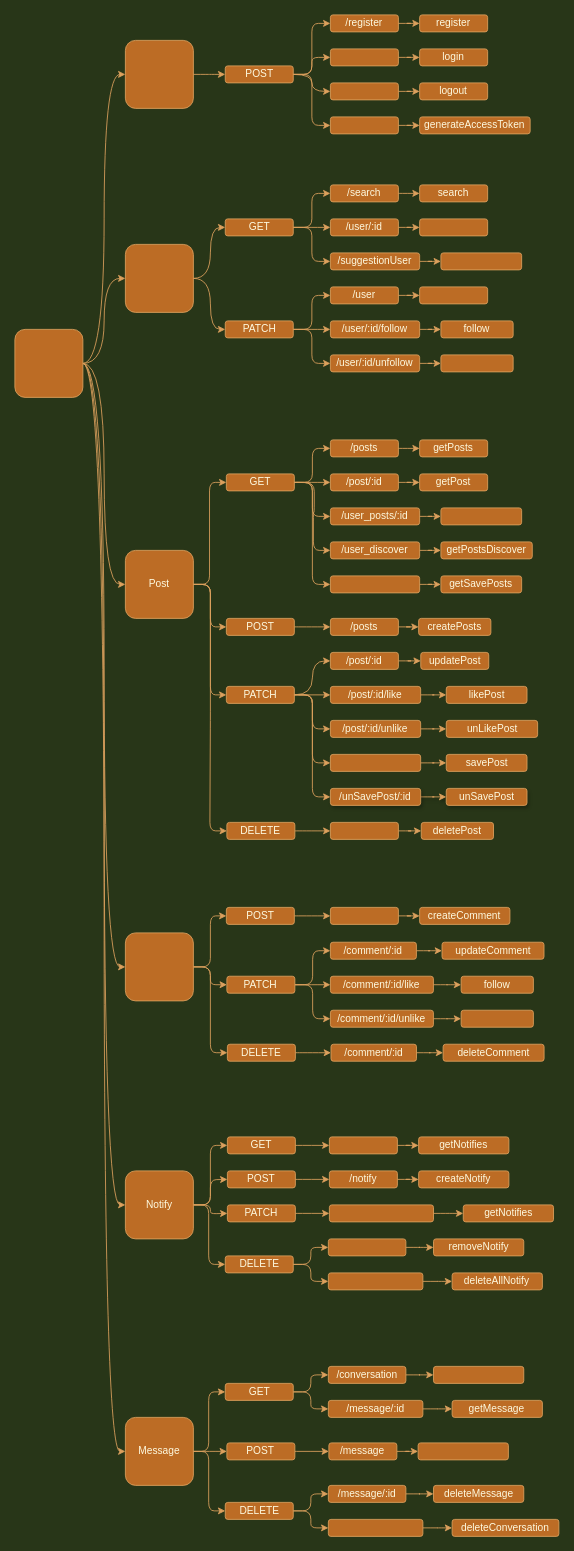
The diagram is 574 pixels wide and 1551 high, and some of its shapes have lost their labels. Each missing label, with the centre of its shape:
"/comment" goes at (x=364, y=915).
"/conversation/:id" goes at (x=375, y=1527).
"/deleteAllNotify" goes at (x=375, y=1281).
"/getSavePosts" goes at (x=375, y=584).
"/isReadNotify/:id" goes at (x=381, y=1213).
"/login" goes at (x=364, y=57).
"/logout" goes at (x=364, y=91).
"/notifies" goes at (x=363, y=1145).
"/notifies/:id" goes at (x=367, y=1247).
"/posts/:id" goes at (x=364, y=830).
"/refresh_token" goes at (x=364, y=125).
"/savePost/:id" goes at (x=375, y=762).
"Auth" goes at (x=159, y=74).
"Comment" goes at (x=159, y=966).
"createMessage" goes at (x=462, y=1451).
"getConversation" goes at (x=478, y=1374).
"getUser" goes at (x=453, y=227).
"getUserPosts" goes at (x=481, y=516).
"Server" goes at (x=48, y=363).
"suggestionUser" goes at (x=481, y=261).
"unfollow" goes at (x=476, y=363).
"unLike" goes at (x=496, y=1018).
"updateUser" goes at (x=453, y=295).
"User" goes at (x=159, y=278).
